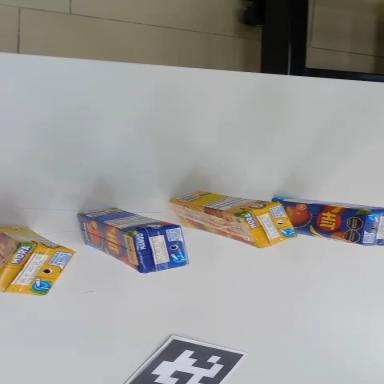HIT-MANGO: (68, 199, 197, 284), (269, 196, 384, 247)
HIT-MORA: (165, 187, 300, 253), (0, 225, 76, 299)
cara_F: (267, 195, 368, 245), (66, 214, 152, 272), (164, 200, 264, 248), (0, 230, 22, 275)
